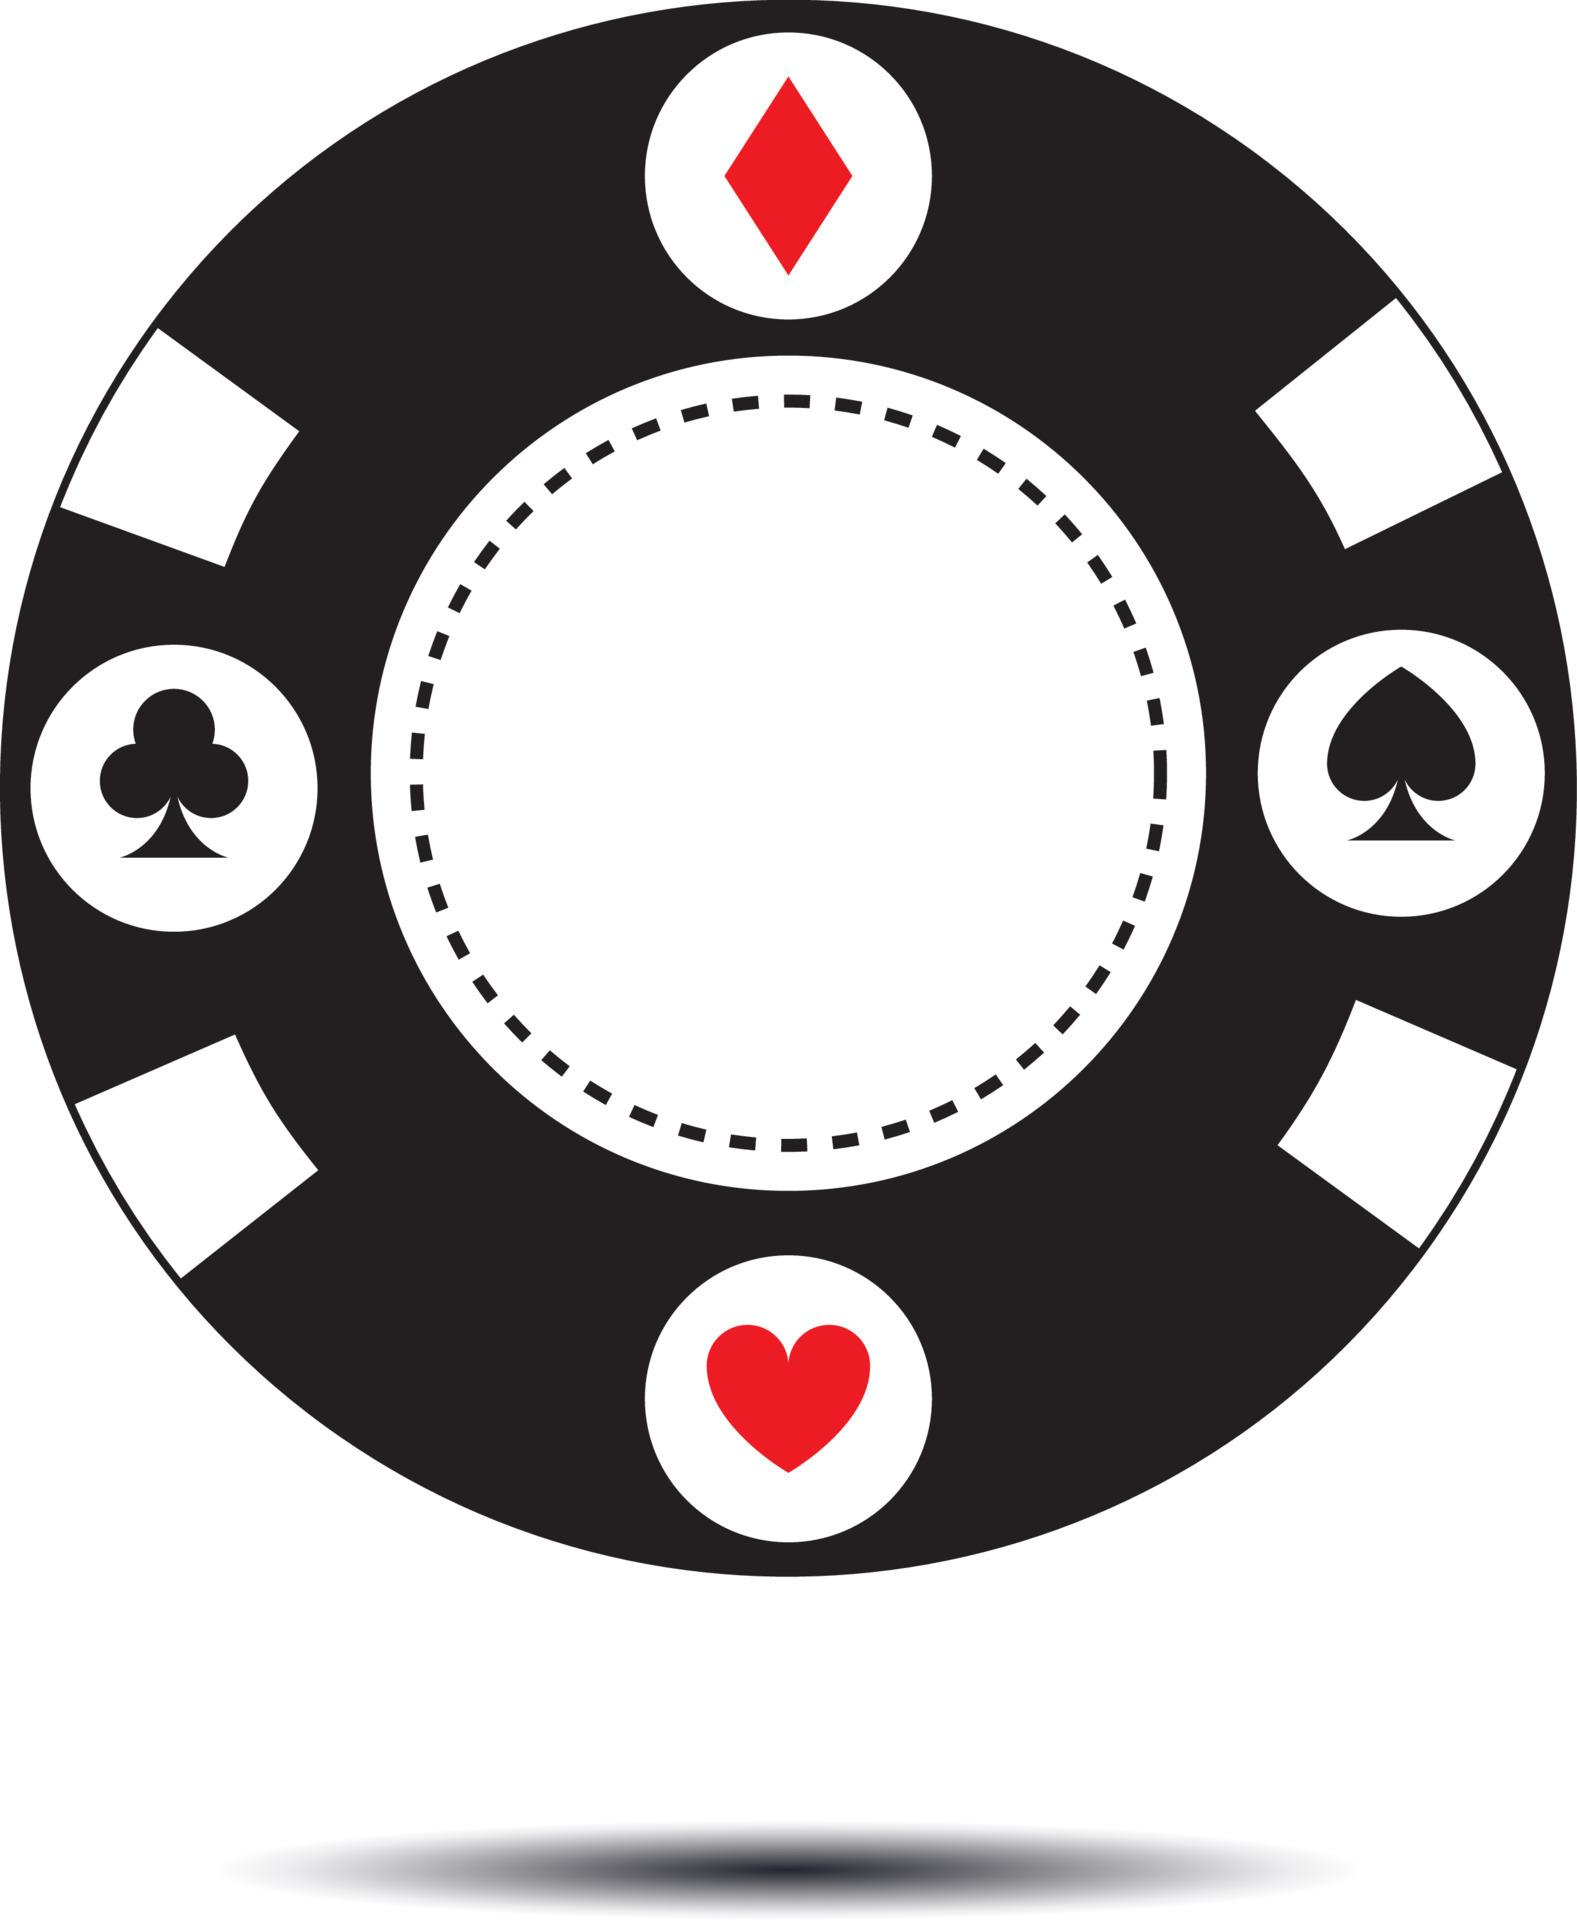chip-black: (3, 0, 1571, 1576)
